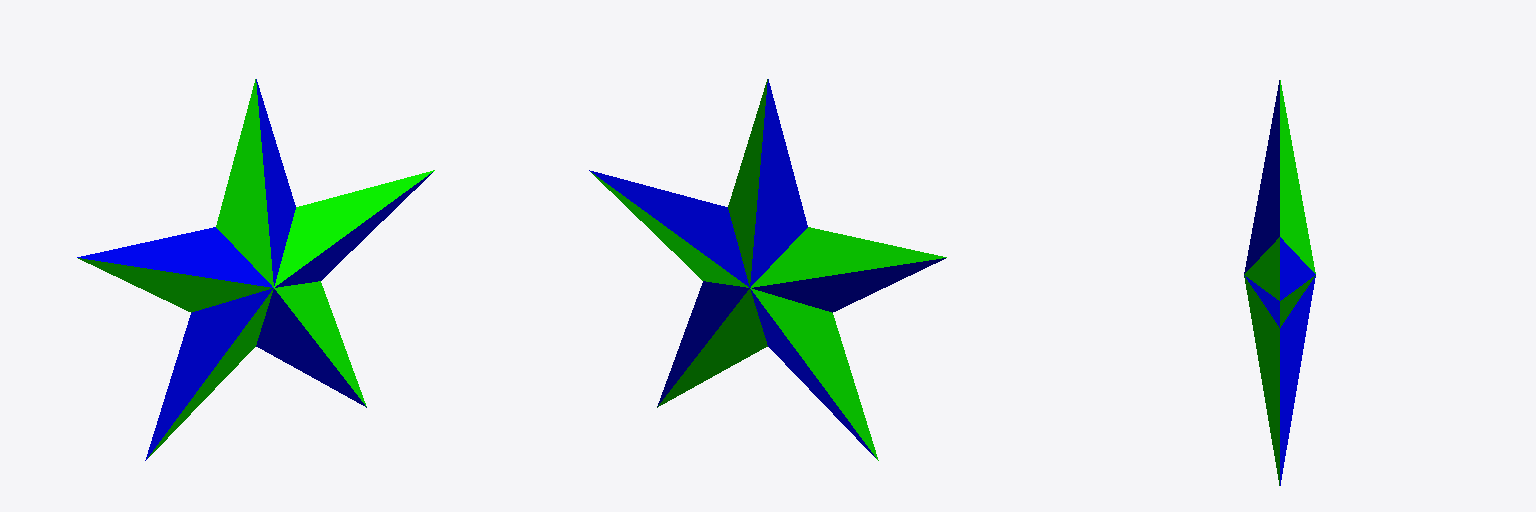
3 views of the same model, side by side, from view 1: azimuth 30°, elevation 25°; view 2: azimuth 150°, elevation 25°; view 3: azimuth 270°, elevation 25° (orthographic).
Parts seen in each view (by area): view 1: Star.001; view 2: Star.001; view 3: Star.001.
Part boxes in pixels (x1,y1,x2,y2): Star.001: (77, 79, 434, 460); Star.001: (589, 79, 946, 460); Star.001: (1244, 80, 1315, 485).
Size of the model in its own units: 3.73 by 3.55 by 0.6458.
Materials: 1 (1 with a texture image).